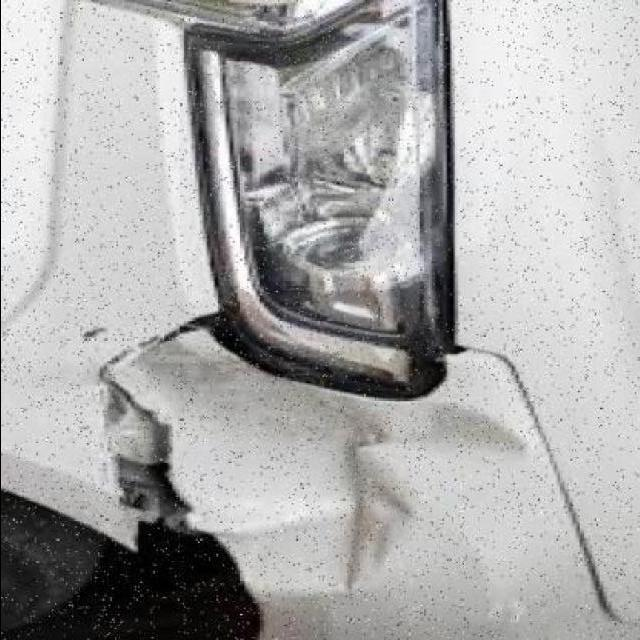fender-dent: (94, 343, 513, 639)
